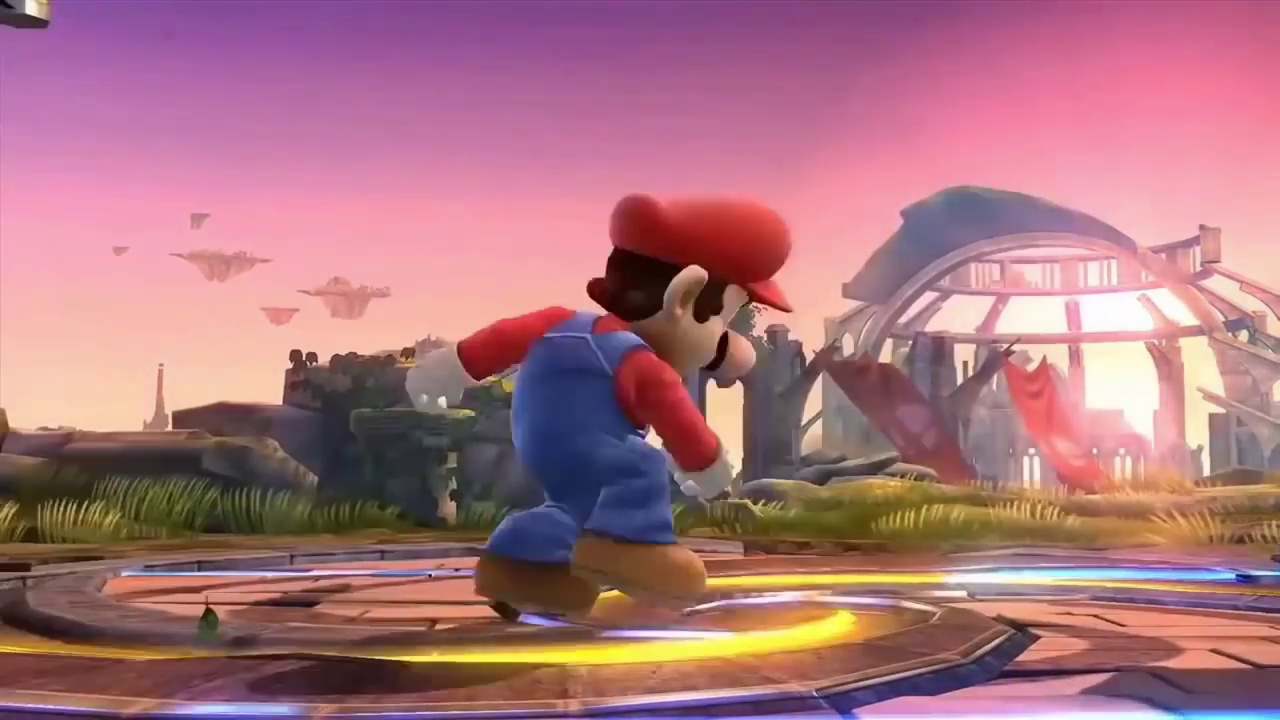Mario: (402, 193, 792, 606)
